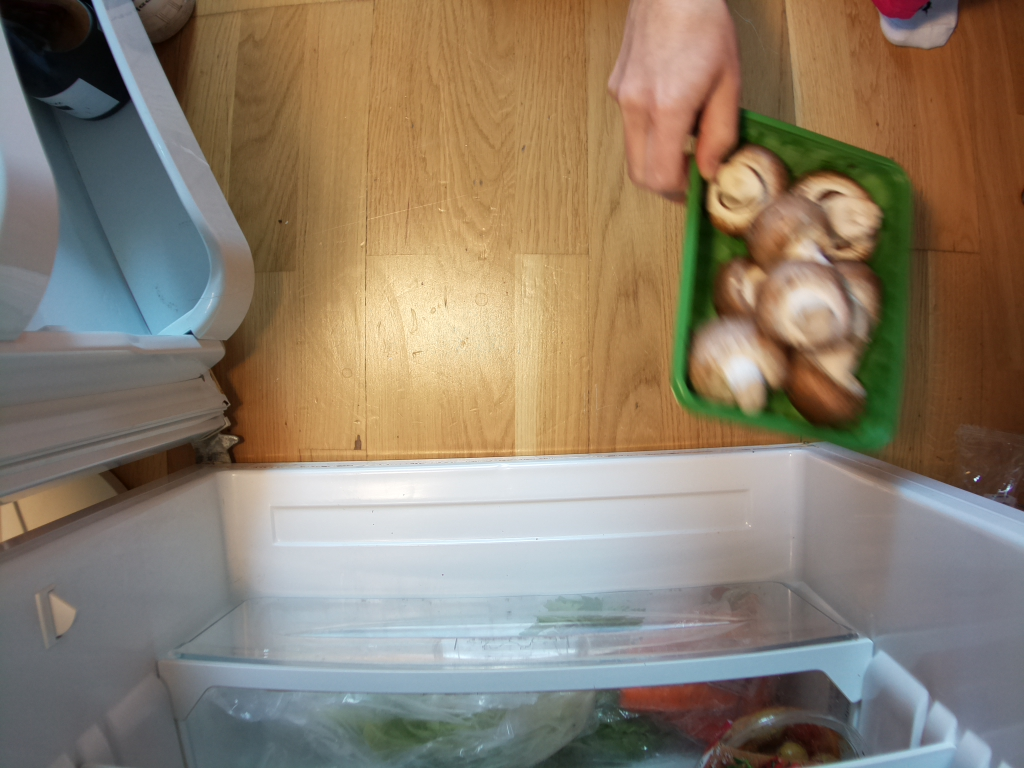mushrooms: (676, 97, 922, 465)
